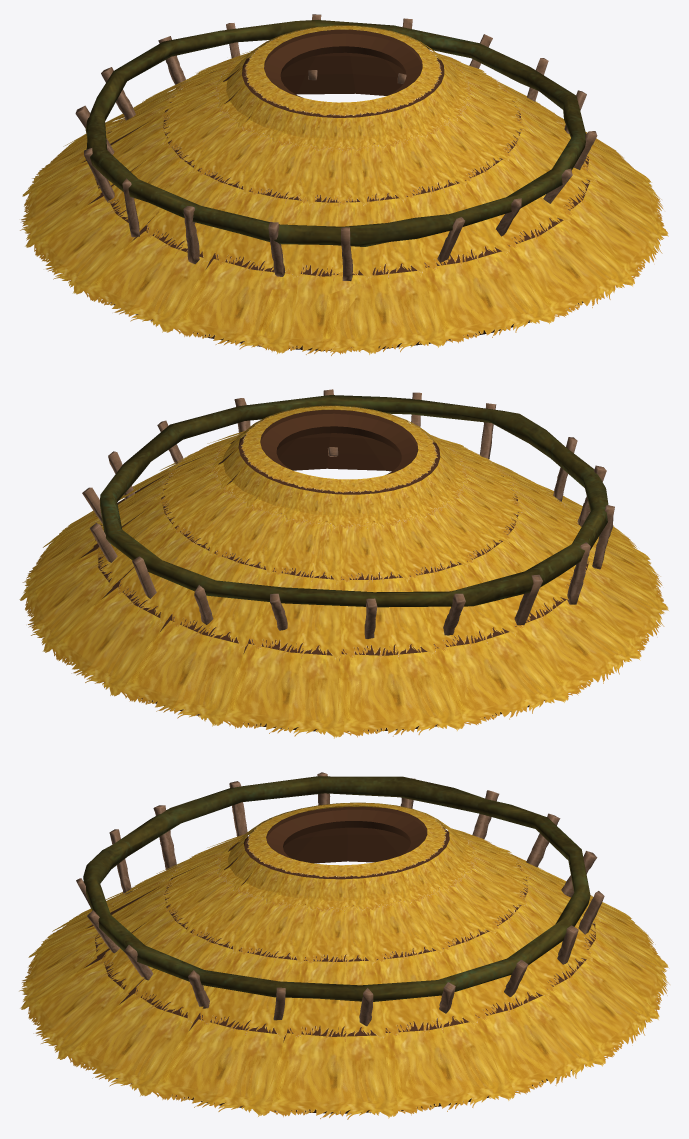
File: SM_roof_02.fbx
The picture shows the model from 3 angles, top to bottom: view 1: azimuth 30°, elevation 25°; view 2: azimuth 150°, elevation 25°; view 3: azimuth 270°, elevation 25°; orthographic projection. The views are drawn at different scales.
Visible parts, largest first — view 1: roof_02; view 2: roof_02; view 3: roof_02.
Part boxes in pixels (bbox=[...]): roof_02: bbox=[20, 14, 668, 355]; roof_02: bbox=[19, 389, 668, 738]; roof_02: bbox=[19, 772, 669, 1119].
Bounding box in the file's own units: 1343 × 372 × 1356.
